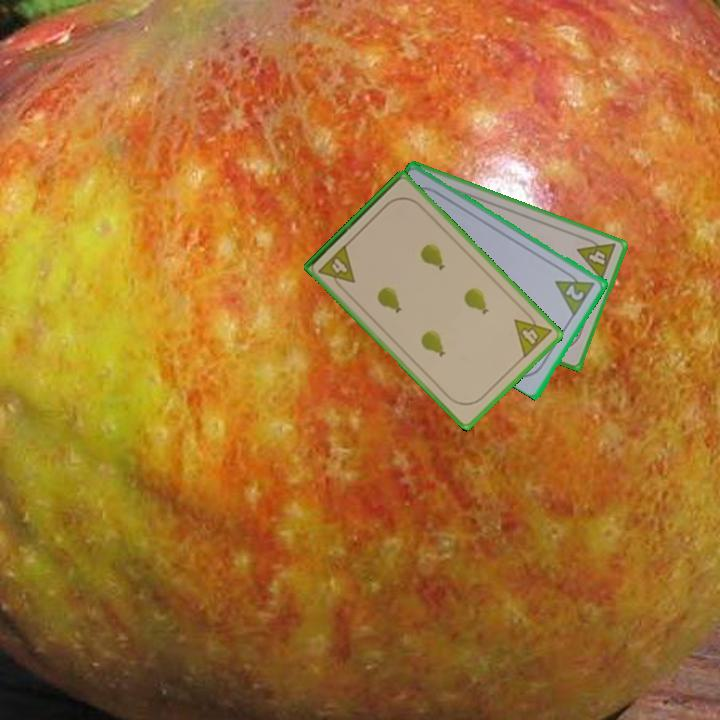2p: (562, 281, 587, 304)
4p: (511, 306, 555, 361), (574, 232, 619, 283), (315, 241, 358, 294)
